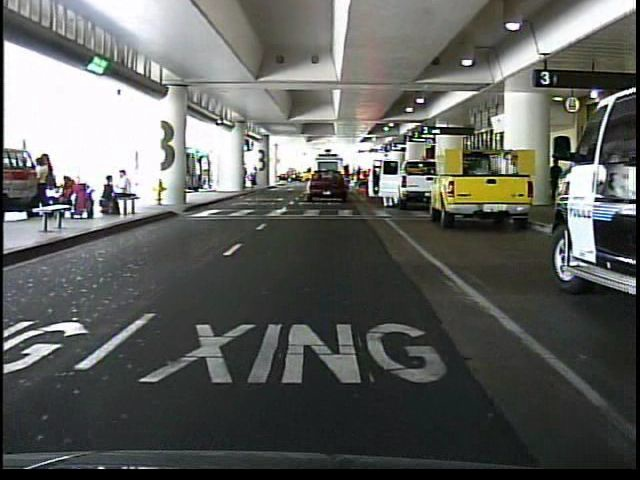person: (544, 154, 567, 207), (249, 166, 261, 191)
